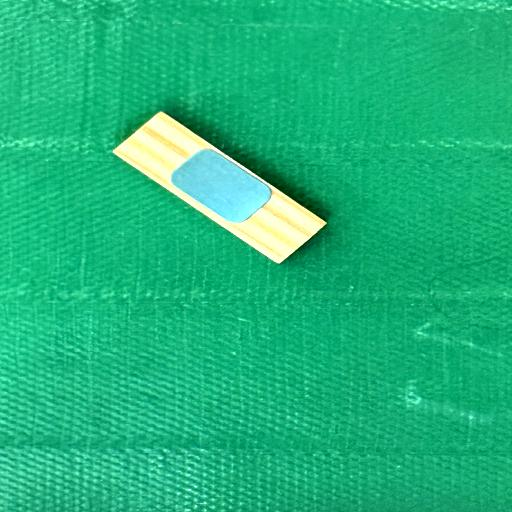objects: (112, 100, 327, 274)
